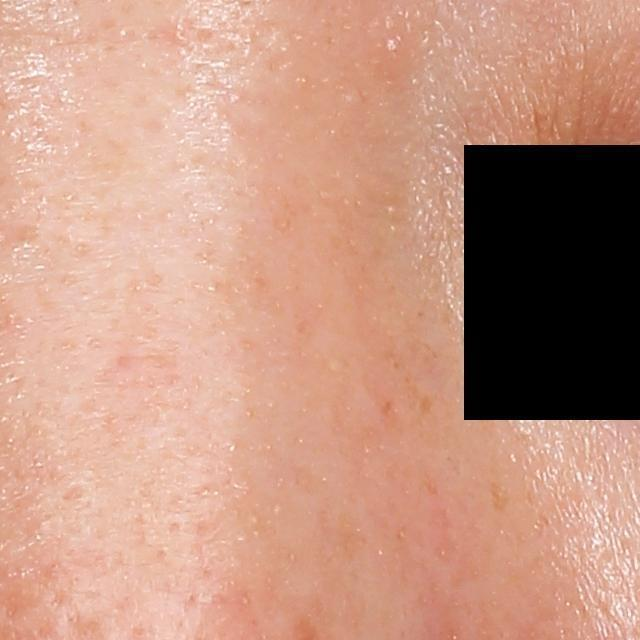comedo: (378, 30, 407, 62)
melasma: (483, 477, 512, 515), (412, 394, 436, 417)
